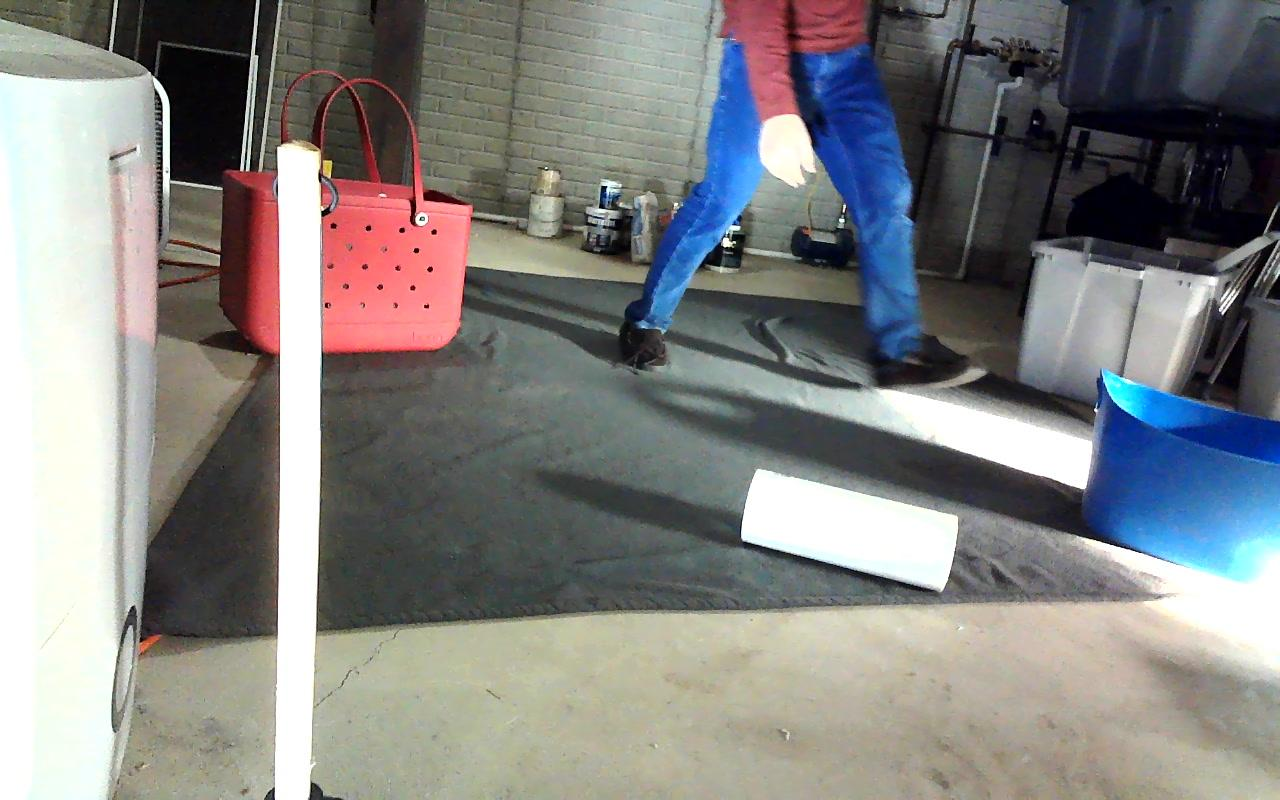coral: (742, 471, 959, 590)
